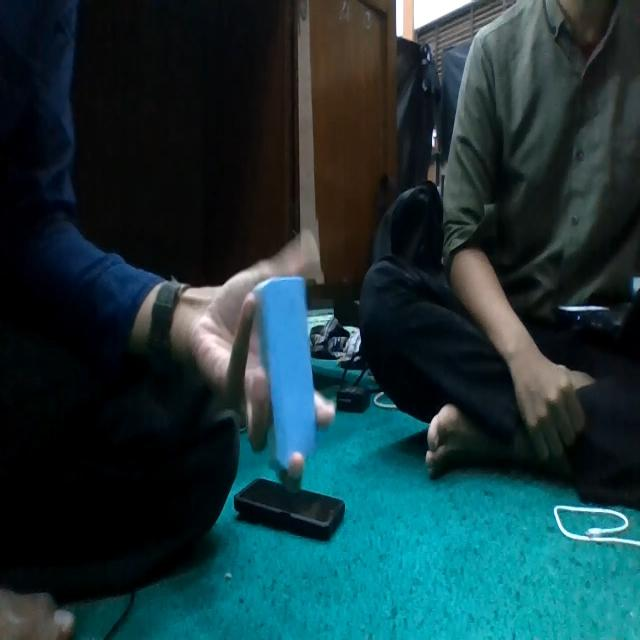Powerbank: (255, 276, 316, 480)
